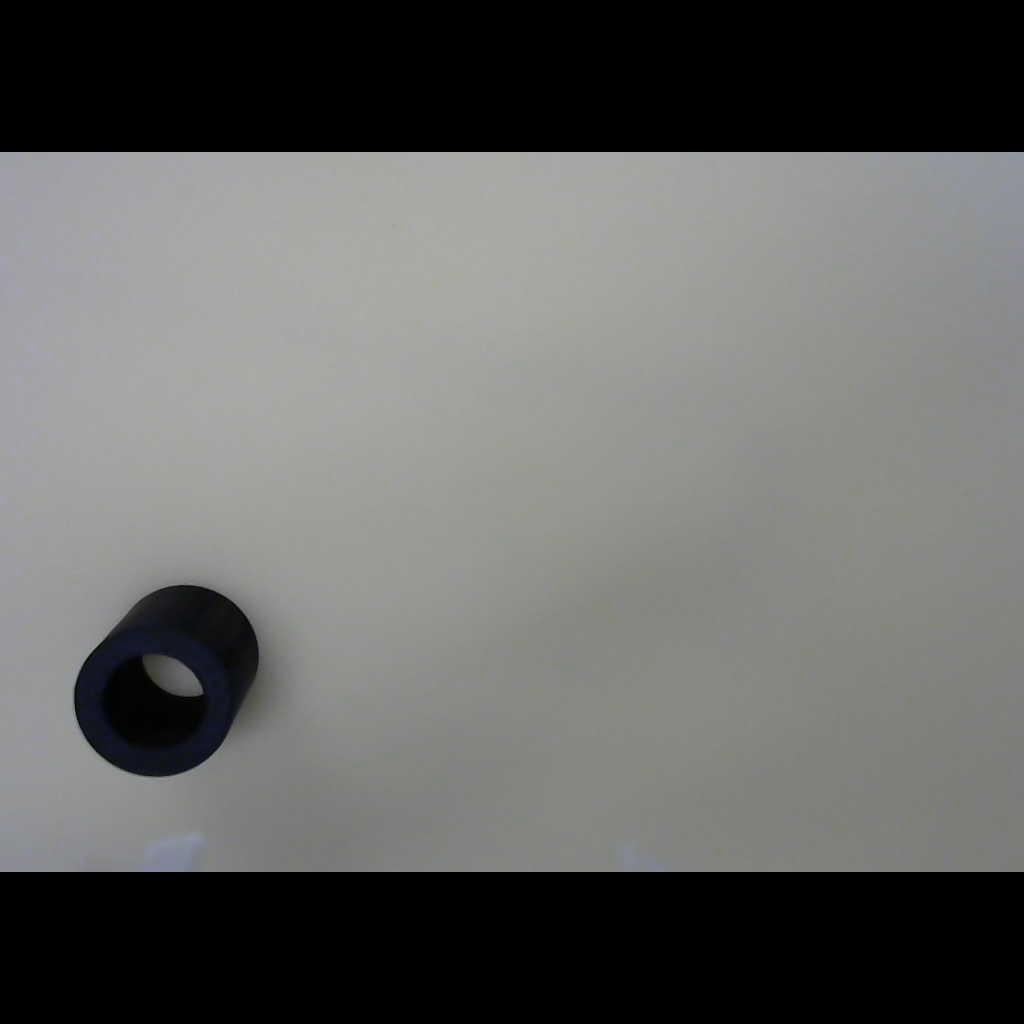ring: (63, 581, 269, 784)
